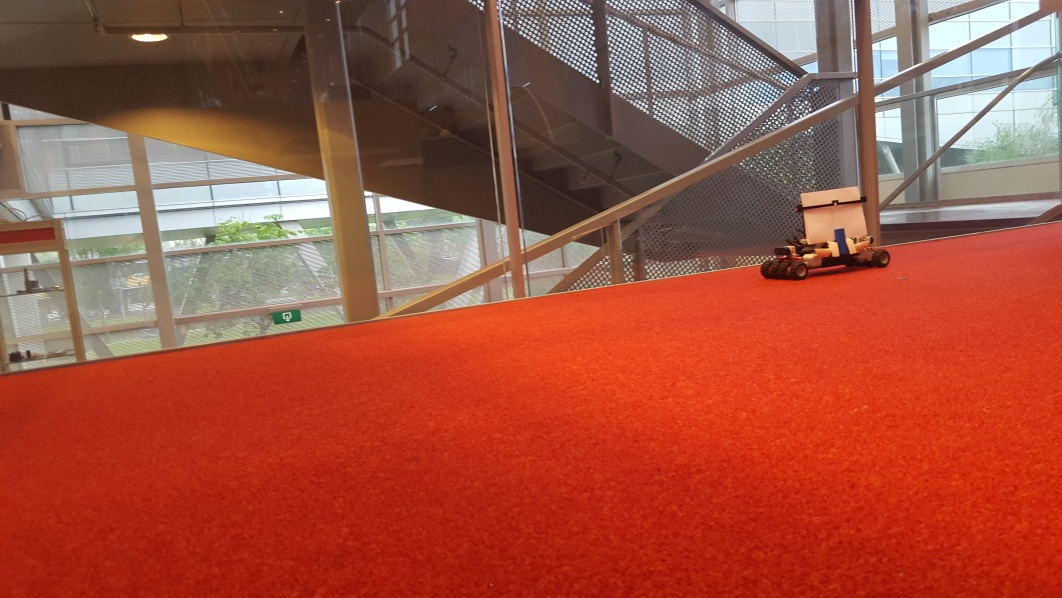car: (762, 184, 890, 280)
